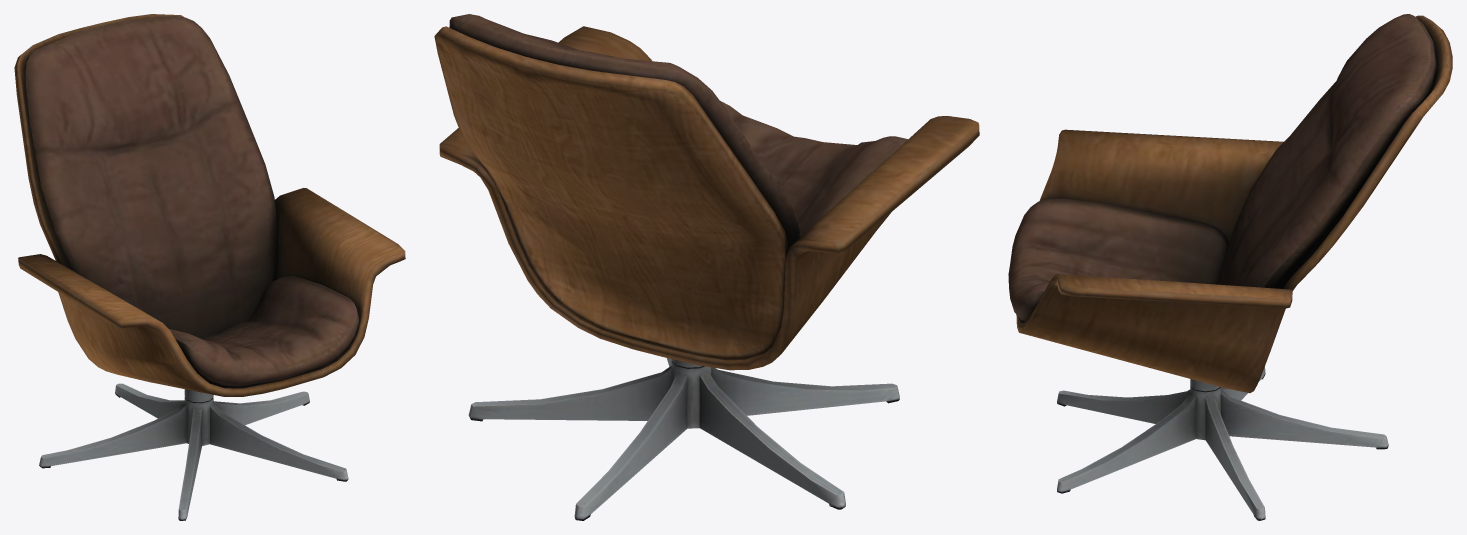
Rendered from mid_century_lounge_chair.glb.
The picture shows the model from 3 angles, left to right: view 1: azimuth 30°, elevation 25°; view 2: azimuth 150°, elevation 25°; view 3: azimuth 270°, elevation 25°; orthographic projection. The views are drawn at different scales.
Visible parts, largest first — view 1: mid_century_lounge_chair; view 2: mid_century_lounge_chair; view 3: mid_century_lounge_chair.
Boxes of the visible parts, x1,y1,x2,y2 form: mid_century_lounge_chair: (14,14,405,520); mid_century_lounge_chair: (434,14,979,520); mid_century_lounge_chair: (1008,14,1452,520).
Bounding box in the file's own units: 1.01 × 1.17 × 1.19.
Materials: 1 (1 with a texture image).
